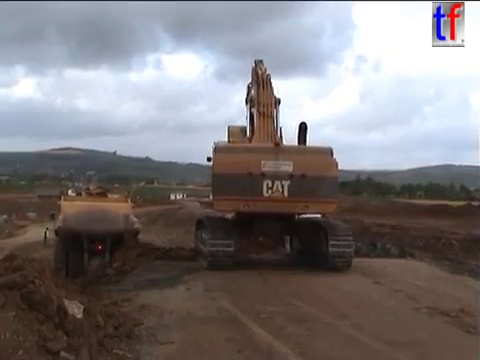excavator: (191, 56, 359, 273)
truck: (49, 193, 143, 282), (36, 186, 84, 200), (78, 185, 107, 199)
worker: (41, 225, 50, 247)
